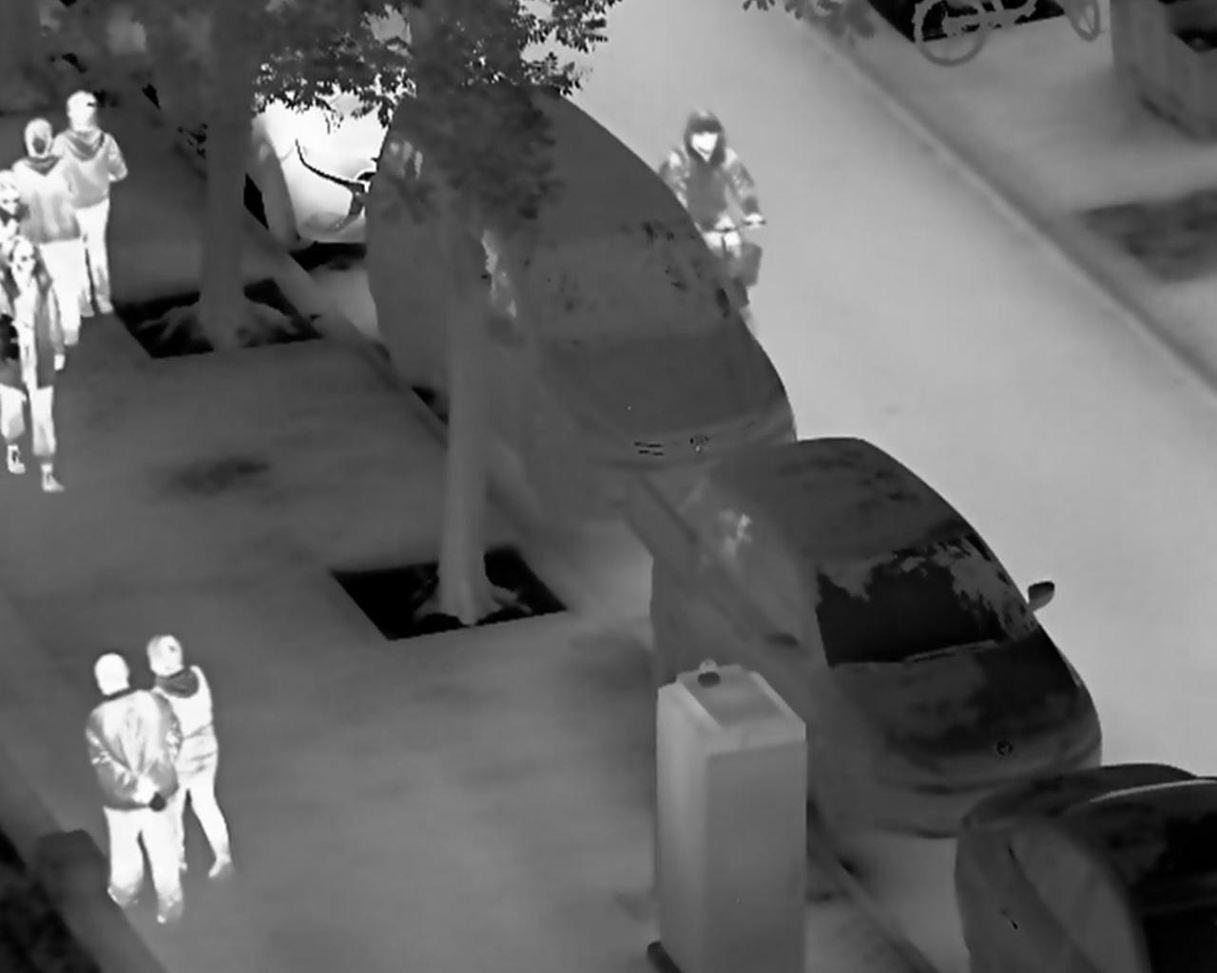person: (83, 650, 184, 926), (141, 631, 233, 885), (48, 90, 138, 317), (11, 112, 86, 348), (657, 105, 769, 261), (2, 236, 68, 494)
